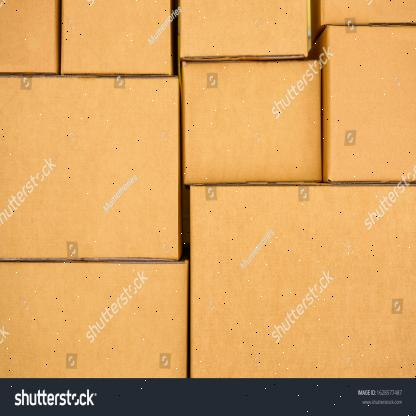box: (190, 184, 416, 379), (0, 75, 180, 261), (2, 259, 188, 376), (183, 61, 323, 183), (324, 25, 416, 183), (61, 0, 172, 77), (180, 0, 308, 62), (0, 0, 57, 76)
